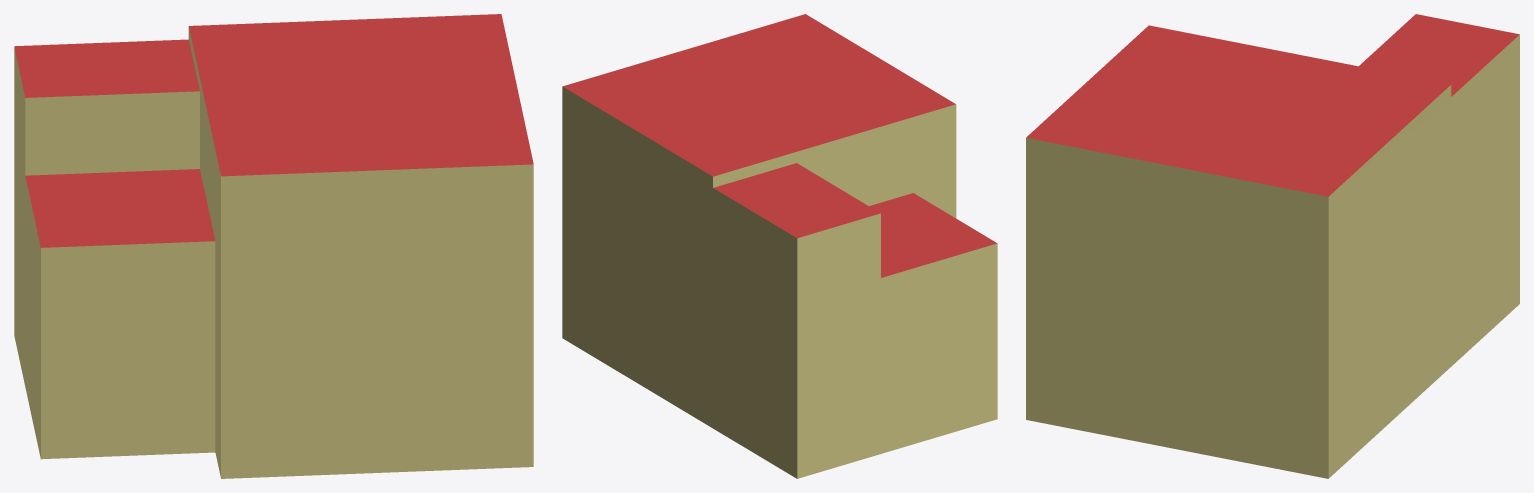
3 renders of one model, left to right at view 1: azimuth 30°, elevation 25°; view 2: azimuth 150°, elevation 25°; view 3: azimuth 270°, elevation 25°, orthographic. The views are drawn at different scales.
Size of the model in its own units: 16.85 by 15.72 by 9.91.
